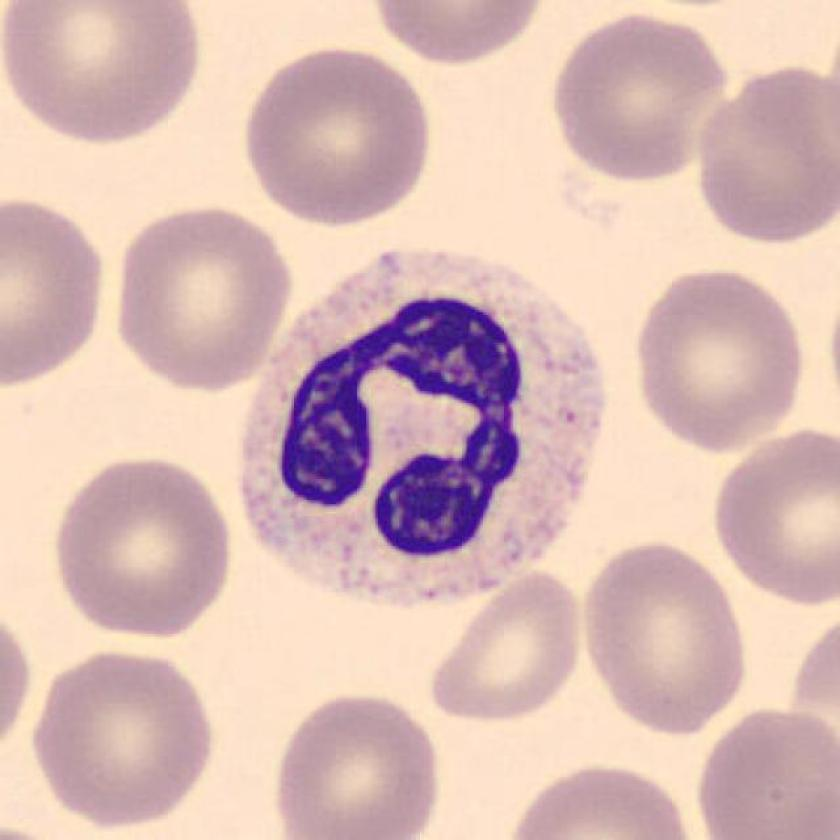neutrophil: (240, 255, 601, 604)
